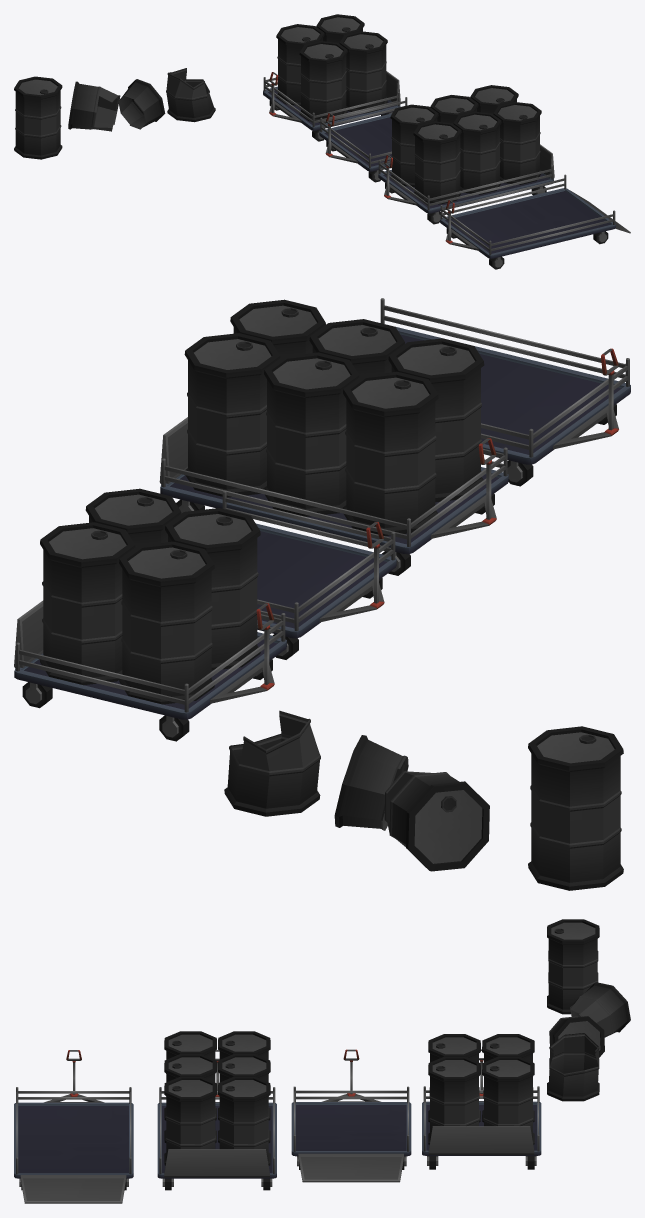
File: Asset_Barriles.fbx
3 views of the same model, one above another, from view 1: azimuth 30°, elevation 25°; view 2: azimuth 150°, elevation 25°; view 3: azimuth 270°, elevation 25° (orthographic). The views are drawn at different scales.
Parts seen in each view (by area): view 1: Asset_Carrito_Grande, Asset_Carrito_Simple, Asset_Carrito_Grande_Vacio, Asset_Barril, Asset_Barril_roto, Asset_Carrito_Simple_Vacio, Asset_Barril_roto_2; view 2: Asset_Carrito_Grande, Asset_Carrito_Simple, Asset_Carrito_Grande_Vacio, Asset_Barril, Asset_Carrito_Simple_Vacio, Asset_Barril_roto, Asset_Barril_roto_2; view 3: Asset_Carrito_Grande, Asset_Carrito_Simple, Asset_Carrito_Grande_Vacio, Asset_Carrito_Simple_Vacio, Asset_Barril, Asset_Barril_roto_2, Asset_Barril_roto.
Boxes of the visible parts, x1,y1,x2,y2 form: Asset_Carrito_Grande: [378, 85, 554, 224]; Asset_Carrito_Simple: [263, 14, 400, 141]; Asset_Carrito_Grande_Vacio: [440, 174, 630, 269]; Asset_Barril: [14, 76, 62, 159]; Asset_Barril_roto: [68, 79, 165, 131]; Asset_Carrito_Simple_Vacio: [319, 97, 407, 182]; Asset_Barril_roto_2: [166, 68, 215, 122]; Asset_Carrito_Grande: [159, 299, 508, 575]; Asset_Carrito_Simple: [14, 488, 286, 741]; Asset_Carrito_Grande_Vacio: [380, 298, 630, 486]; Asset_Barril: [528, 726, 623, 890]; Asset_Carrito_Simple_Vacio: [222, 490, 396, 659]; Asset_Barril_roto: [334, 735, 489, 871]; Asset_Barril_roto_2: [224, 710, 320, 816]; Asset_Carrito_Grande: [157, 1031, 276, 1190]; Asset_Carrito_Simple: [422, 1034, 541, 1169]; Asset_Carrito_Grande_Vacio: [14, 1050, 133, 1203]; Asset_Carrito_Simple_Vacio: [291, 1049, 411, 1182]; Asset_Barril: [547, 919, 599, 1014]; Asset_Barril_roto_2: [547, 1033, 599, 1101]; Asset_Barril_roto: [549, 982, 630, 1057].
Bounding box in the file's own units: 246 × 51.04 × 300.
